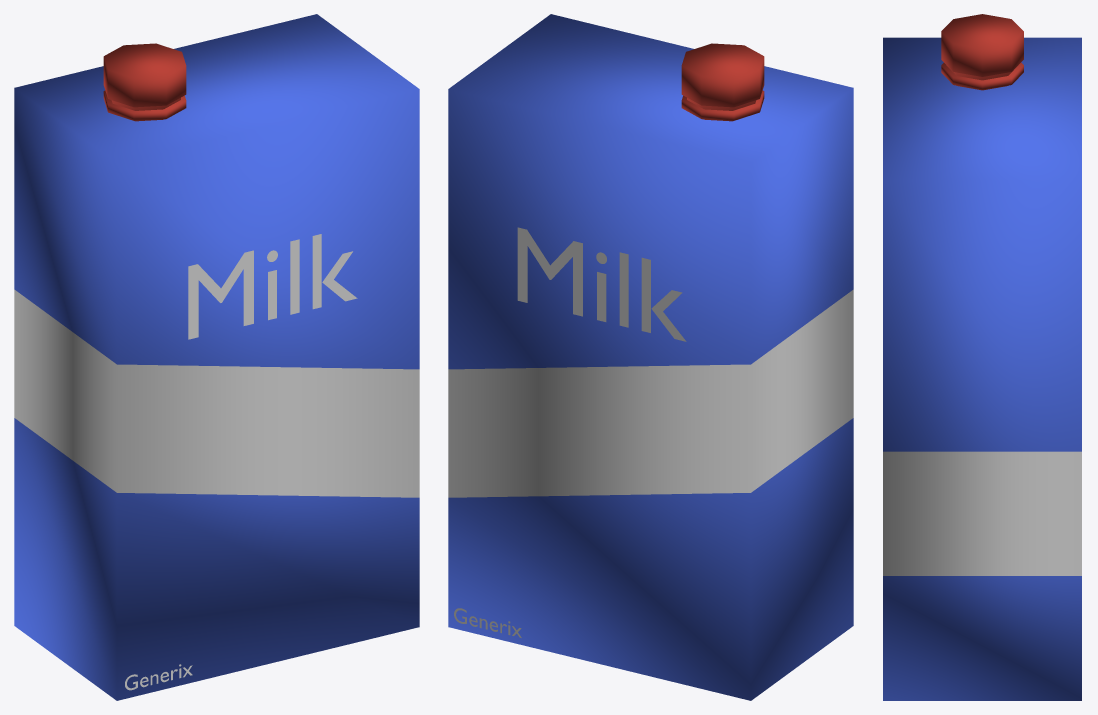
File: Milk.glb
3 renders of one model, left to right at view 1: azimuth 30°, elevation 25°; view 2: azimuth 150°, elevation 25°; view 3: azimuth 270°, elevation 25°, orthographic. The views are drawn at different scales.
Visible parts, largest first — view 1: Milk; view 2: Milk; view 3: Milk.
Boxes of the visible parts, x1,y1,x2,y2 form: Milk: (14, 14, 419, 700); Milk: (448, 14, 853, 700); Milk: (883, 14, 1081, 700).
Size of the model in its own units: 2.95 by 5.42 by 1.75.
